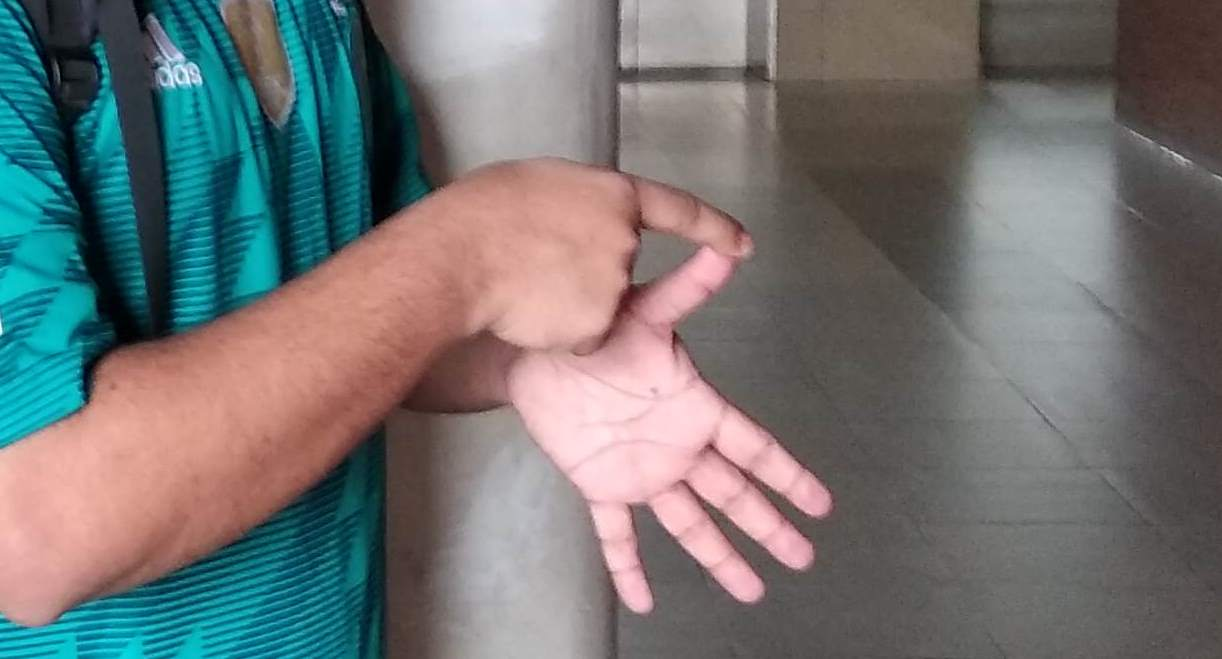a: (519, 160, 857, 636)
